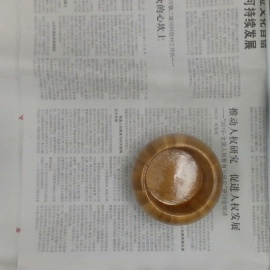chess: (132, 133, 224, 225)
